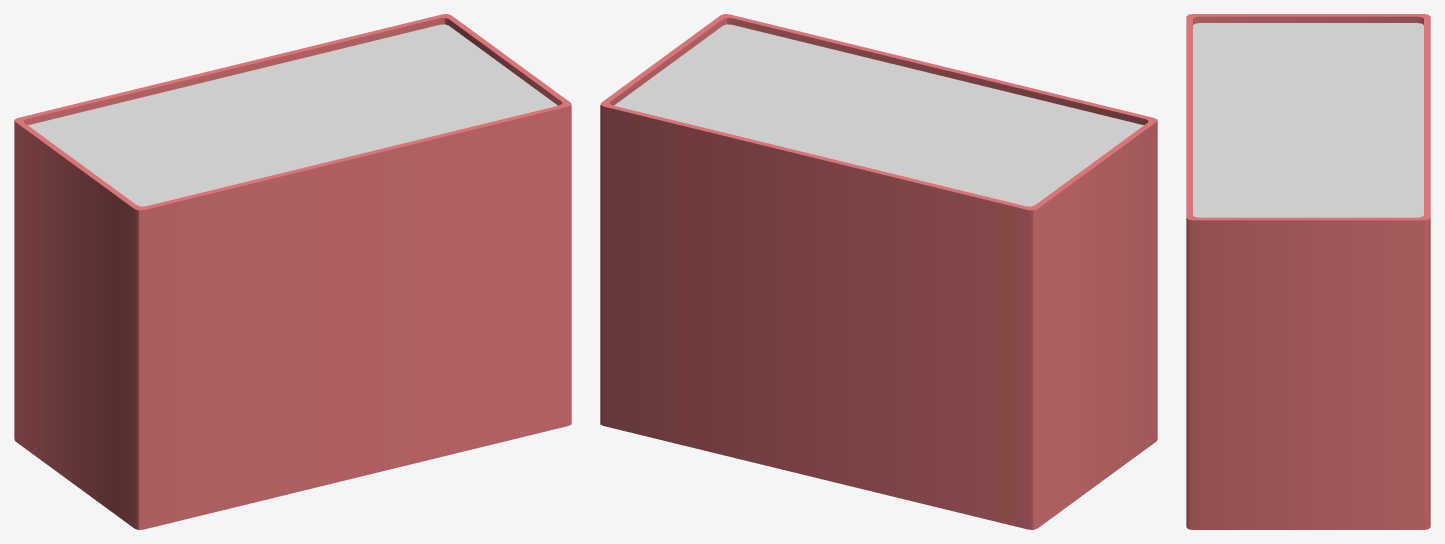
File: display_panjang.fbx
3 views of the same model, side by side, from view 1: azimuth 30°, elevation 25°; view 2: azimuth 150°, elevation 25°; view 3: azimuth 270°, elevation 25° (orthographic). The views are drawn at different scales.
Parts seen in each view (by area): view 1: display_panjang; view 2: display_panjang; view 3: display_panjang.
Boxes of the visible parts, x1,y1,x2,y2 form: display_panjang: [14, 14, 571, 529]; display_panjang: [600, 14, 1157, 529]; display_panjang: [1186, 14, 1430, 529].
Bounding box in the file's own units: 100 × 70 × 50.
Materials: 2 (1 with a texture image).
